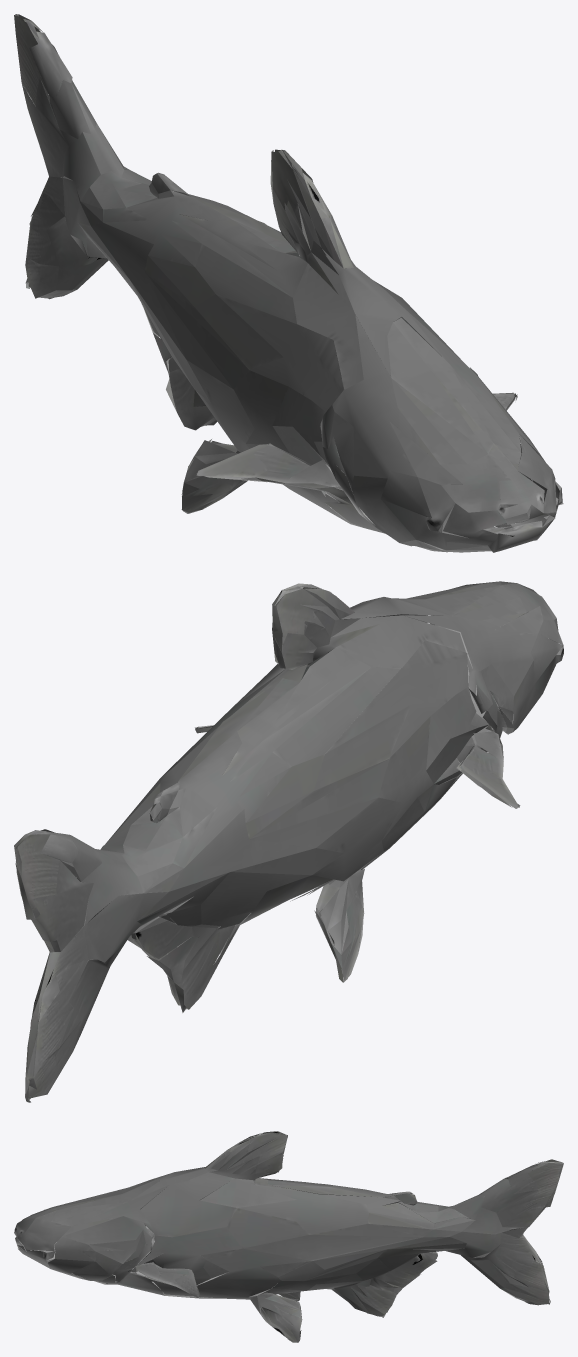
File: giant-catfish.glb
3 renders of one model, top to bottom at view 1: azimuth 30°, elevation 25°; view 2: azimuth 150°, elevation 25°; view 3: azimuth 270°, elevation 25°, orthographic. The views are drawn at different scales.
Visible parts, largest first — view 1: output_unwrapped; view 2: output_unwrapped; view 3: output_unwrapped.
Boxes of the visible parts, x1=… form: output_unwrapped: x1=14, y1=14, x2=563, y2=552; output_unwrapped: x1=14, y1=581, x2=563, y2=1102; output_unwrapped: x1=14, y1=1131, x2=563, y2=1342.
Bounding box in the file's own units: 0.8728 × 0.9209 × 2.4.
1 material, 1 textured.
